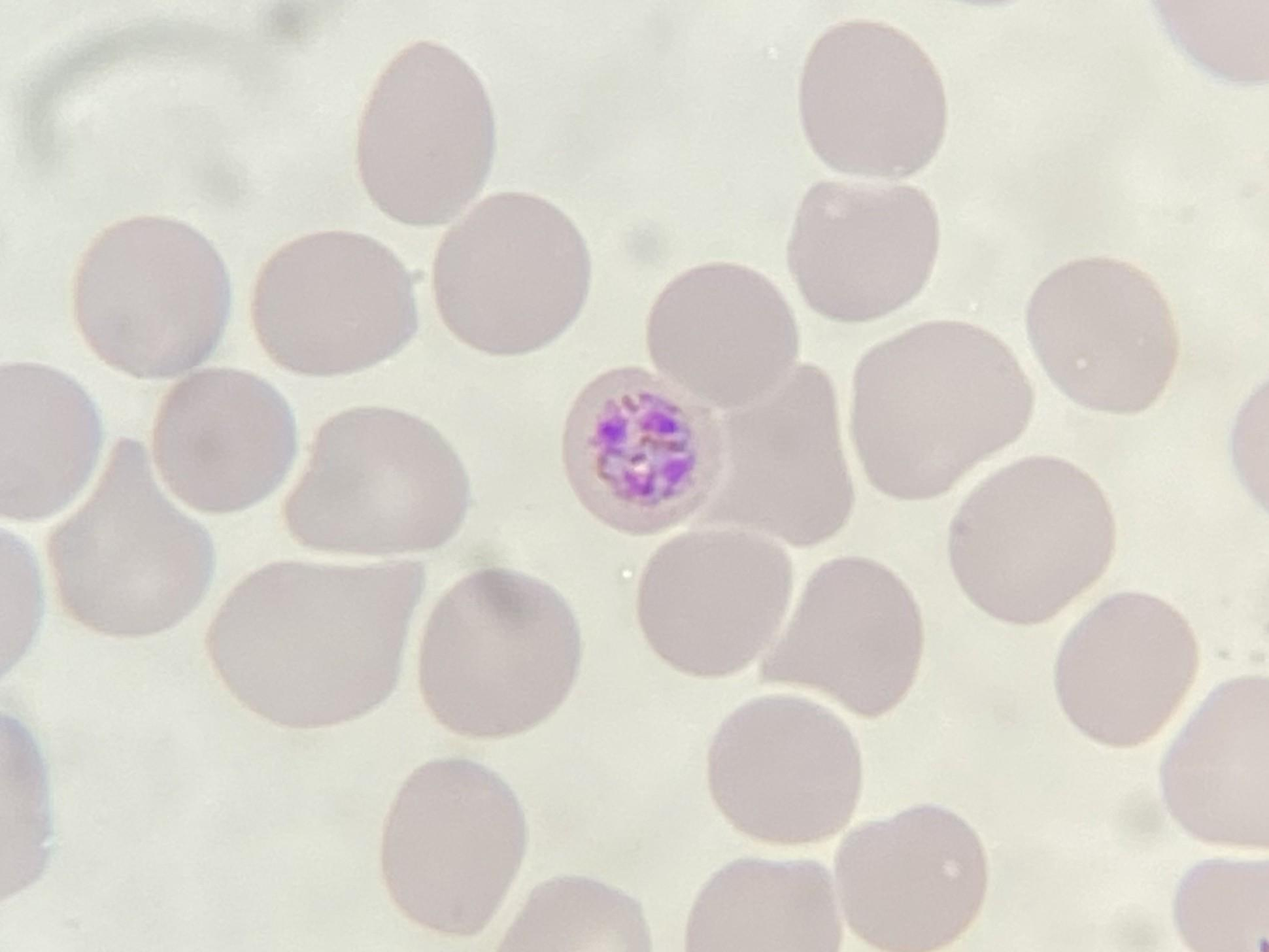Infected: (562, 366, 725, 534)
Uninfected: (208, 556, 428, 728), (51, 441, 215, 641), (849, 323, 1030, 499), (698, 366, 851, 548), (287, 407, 469, 556), (949, 458, 1112, 624), (418, 570, 581, 736), (379, 758, 530, 937), (764, 554, 922, 720), (72, 216, 231, 378), (358, 42, 496, 226), (431, 194, 588, 354), (251, 229, 418, 377), (1024, 257, 1179, 413), (705, 695, 862, 849), (634, 529, 793, 678), (800, 21, 948, 177), (787, 173, 939, 321), (835, 807, 989, 951), (644, 265, 799, 408), (1055, 593, 1196, 749), (152, 370, 299, 516)
